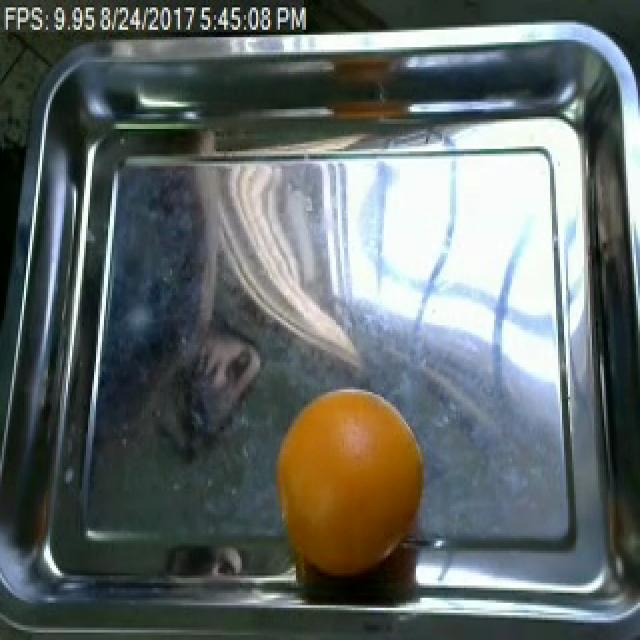Fruit: (276, 384, 430, 580)
